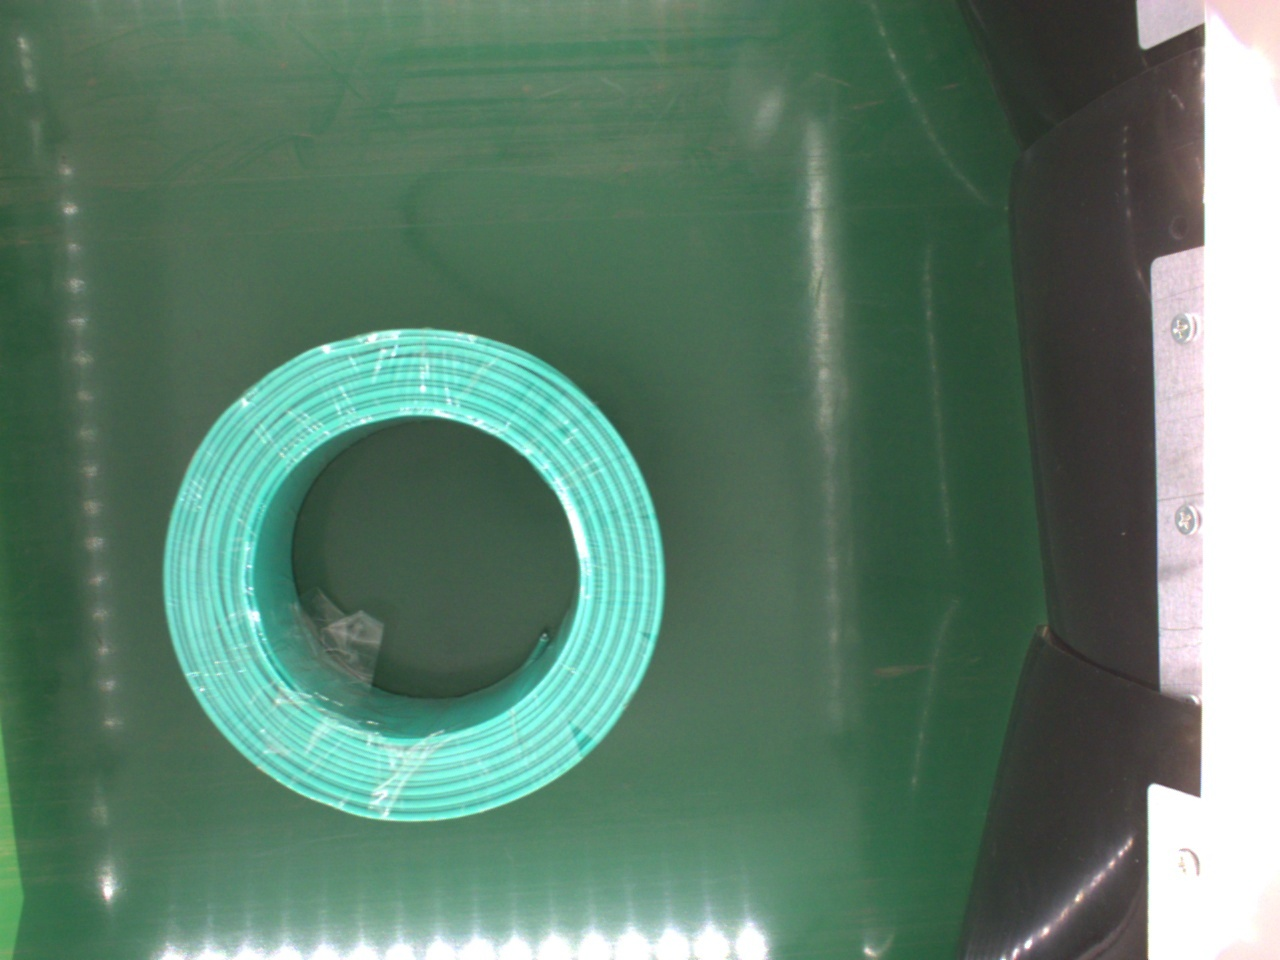green: (159, 326, 667, 829)
